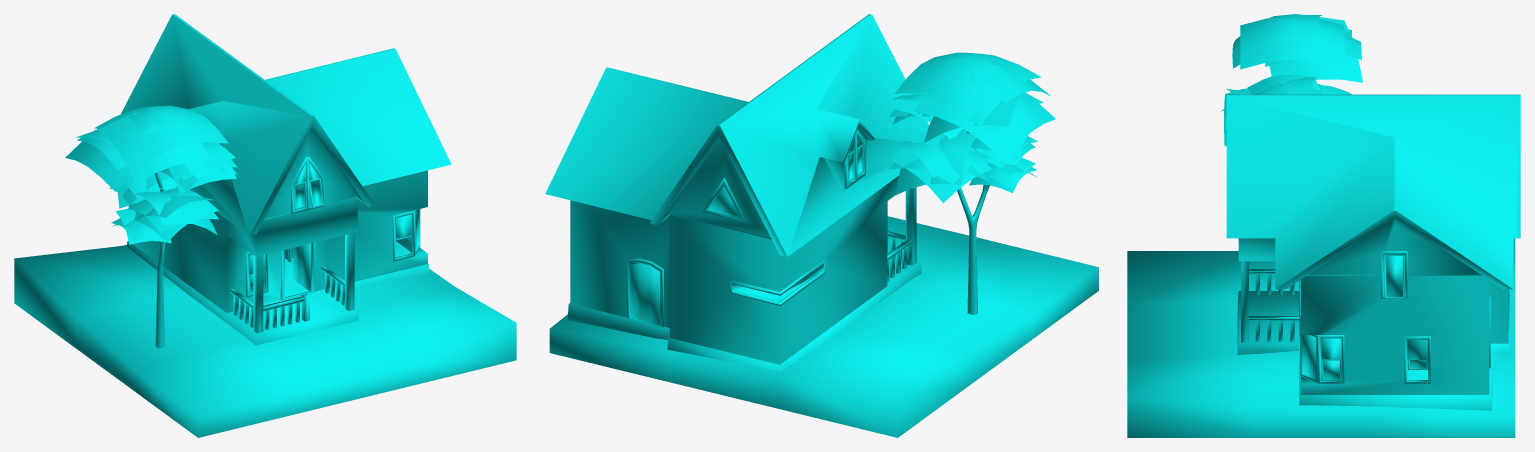
Rendered from home.obj.
3 views of the same model, side by side, from view 1: azimuth 30°, elevation 25°; view 2: azimuth 150°, elevation 25°; view 3: azimuth 270°, elevation 25° (orthographic). The views are drawn at different scales.
Parts seen in each view (by area): view 1: Body_Cube.002; view 2: Body_Cube.002; view 3: Body_Cube.002.
Part boxes in pixels (box(x1,y1,x2,y2)): Body_Cube.002: box(14, 14, 516, 437); Body_Cube.002: box(545, 14, 1098, 437); Body_Cube.002: box(1127, 14, 1520, 437).
Bounding box in the file's own units: 1.42 × 1.01 × 1.31.
